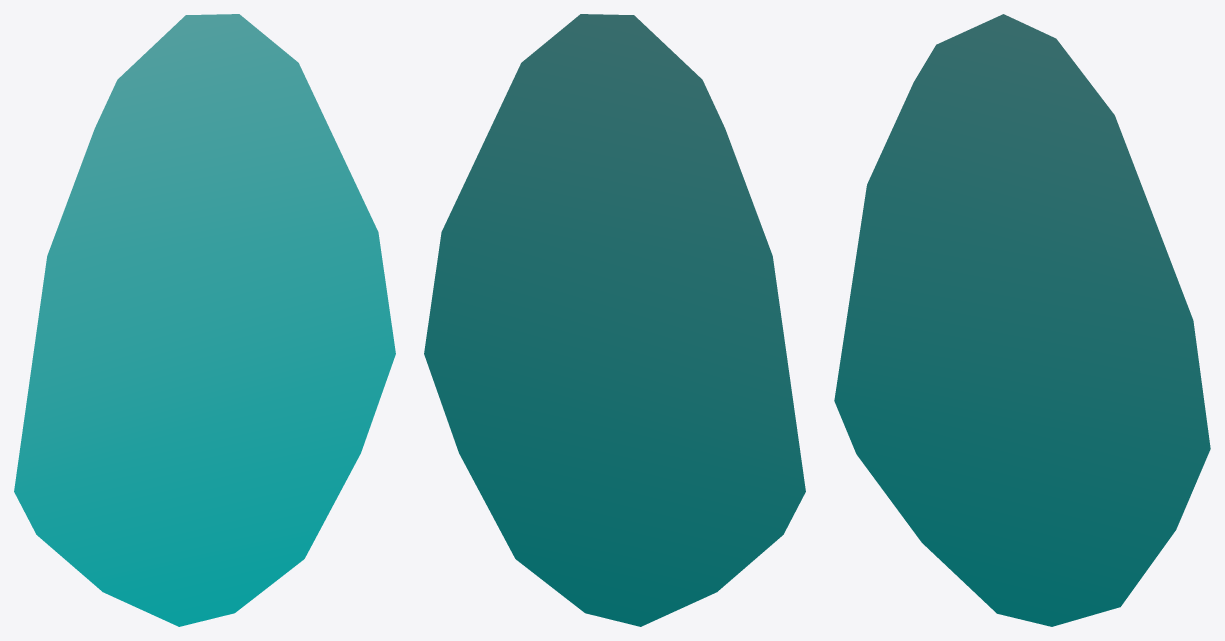
The model's file is Boxwood_wfypfa3ha_Low_wfypfa3ha_VarE_LOD3.fbx.
3 views of the same model, side by side, from view 1: azimuth 30°, elevation 25°; view 2: azimuth 150°, elevation 25°; view 3: azimuth 330°, elevation 25° (orthographic).
Visible parts, largest first — view 1: _3l8b_VarE_LOD5; view 2: _3l8b_VarE_LOD5; view 3: _3l8b_VarE_LOD5.
Boxes of the visible parts, x1=… form: _3l8b_VarE_LOD5: x1=14, y1=14, x2=395, y2=626; _3l8b_VarE_LOD5: x1=424, y1=14, x2=805, y2=626; _3l8b_VarE_LOD5: x1=834, y1=14, x2=1210, y2=626.
Bounding box in the file's own units: 80.07 × 122 × 0.
